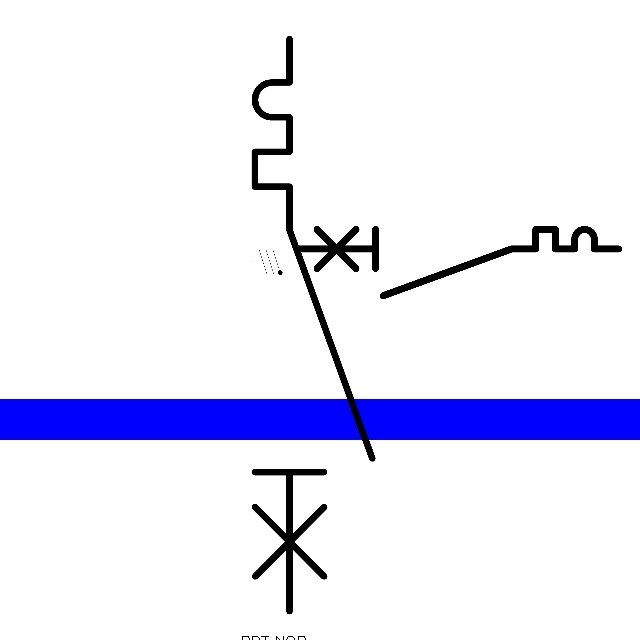interruptor_termomagnetico: (240, 24, 387, 626), (289, 221, 627, 303)
